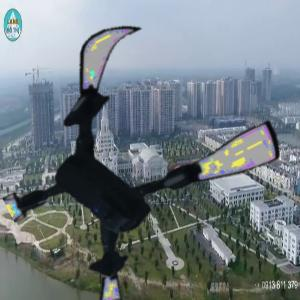drone: (2, 25, 278, 300)
